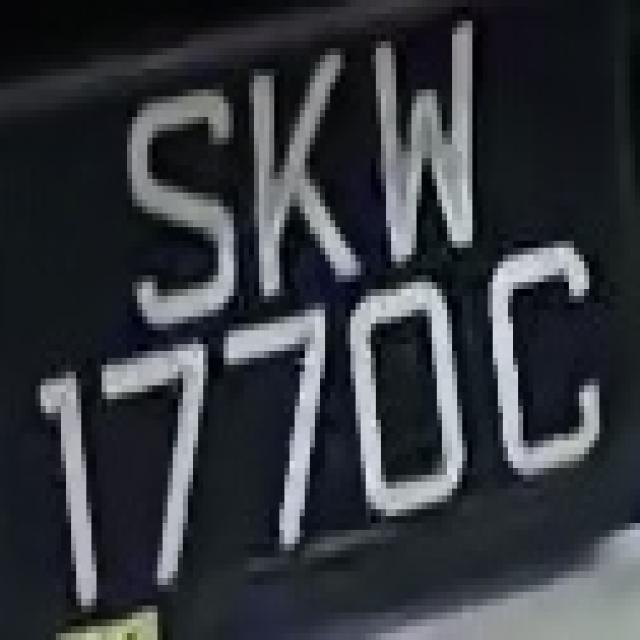0: (330, 282, 493, 537)
1: (15, 358, 117, 619)
7: (198, 310, 335, 578), (86, 330, 218, 592)
C: (482, 220, 620, 516)
K: (238, 27, 360, 303)
S: (112, 83, 234, 344)
W: (360, 28, 488, 275)
